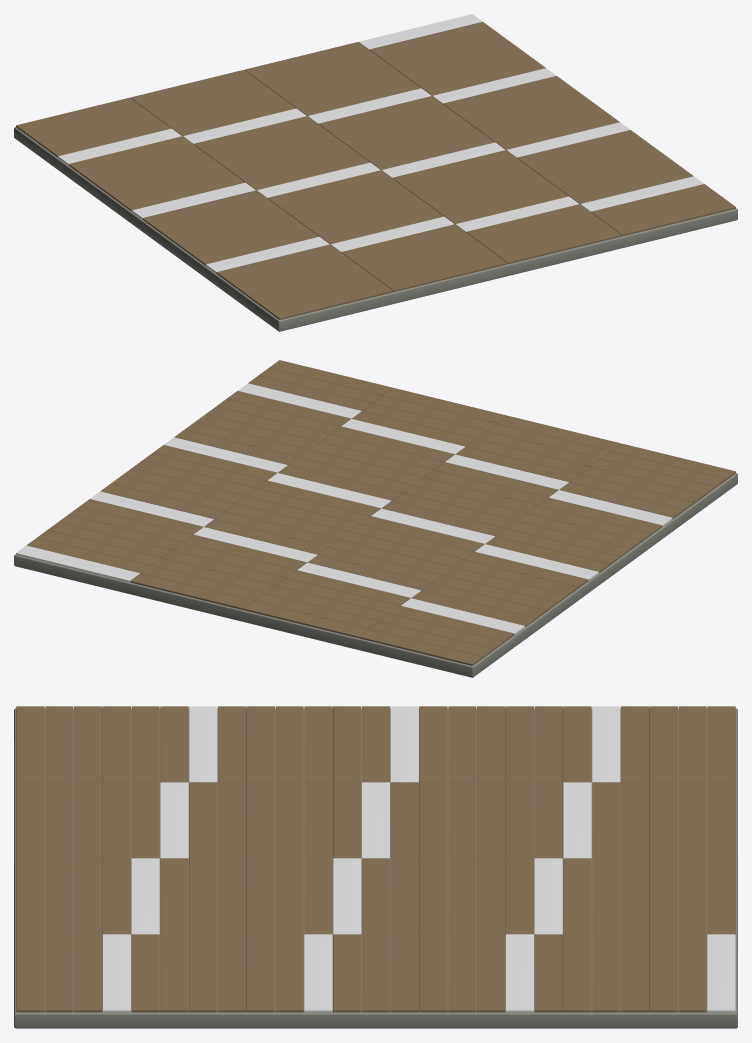
The model's file is Furniture_Floor62.fbx.
3 views of the same model, one above another, from view 1: azimuth 30°, elevation 25°; view 2: azimuth 150°, elevation 25°; view 3: azimuth 270°, elevation 25° (orthographic). The views are drawn at different scales.
Visible parts, largest first — view 1: Furniture_Floor62; view 2: Furniture_Floor62; view 3: Furniture_Floor62.
Part boxes in pixels (x1,y1,x2,y2): Furniture_Floor62: (14, 14, 737, 331); Furniture_Floor62: (14, 360, 737, 677); Furniture_Floor62: (14, 706, 737, 1028).
Size of the model in its own units: 666 by 18.45 by 666.
